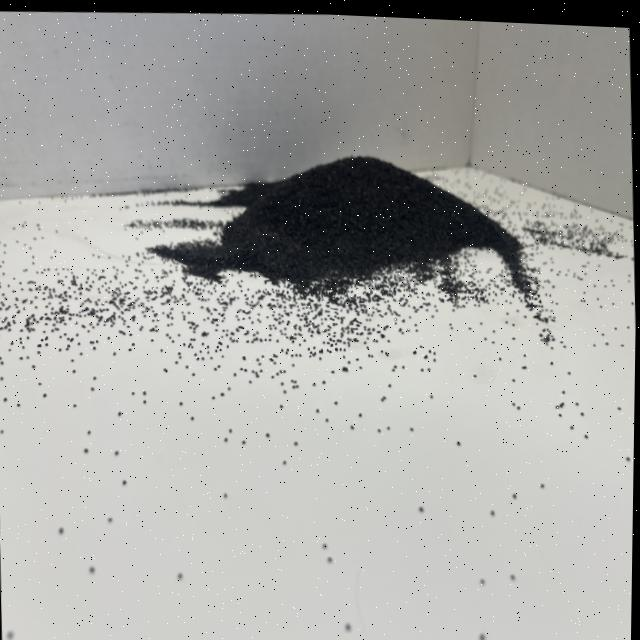Poppy Seeds: (160, 107, 560, 350)
